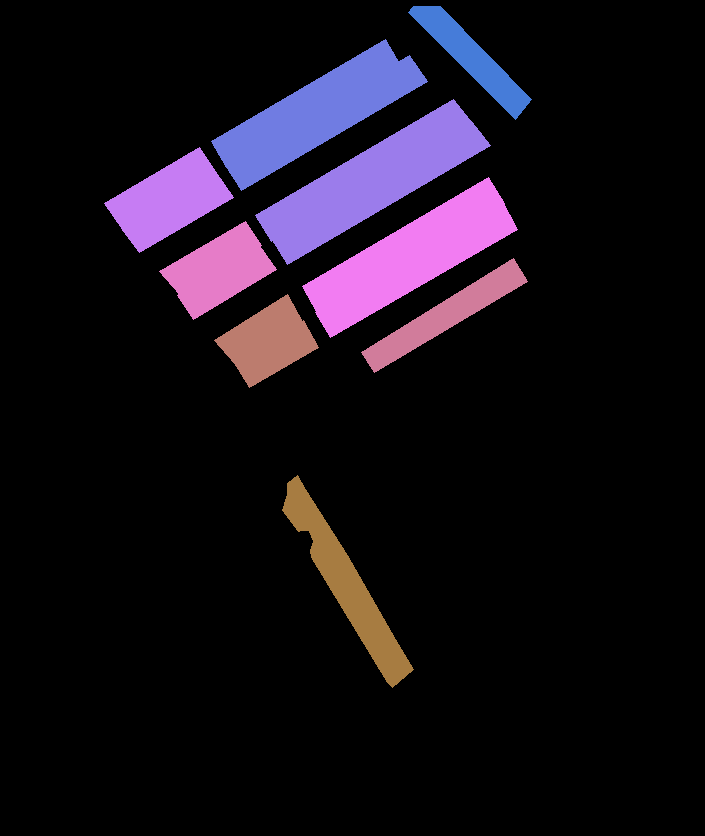parkingspot: (271, 121, 490, 264), (255, 99, 473, 241), (282, 475, 413, 687), (315, 201, 517, 337), (302, 177, 504, 313), (225, 55, 427, 190), (211, 39, 399, 167), (361, 258, 527, 372), (408, 6, 531, 119), (104, 147, 217, 229), (121, 171, 233, 252), (159, 221, 261, 295), (177, 245, 276, 319), (214, 294, 303, 364), (233, 320, 318, 387)
